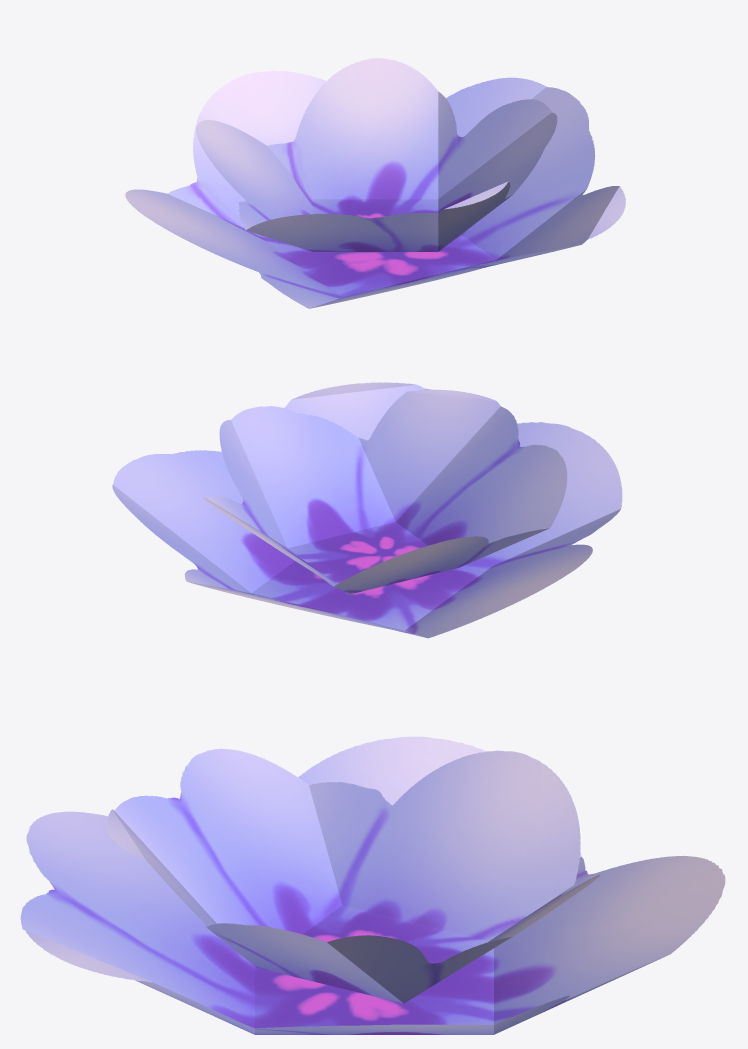
The model's file is purpleGroundFlower_1.fbx.
3 views of the same model, one above another, from view 1: azimuth 30°, elevation 25°; view 2: azimuth 150°, elevation 25°; view 3: azimuth 270°, elevation 25° (orthographic). The views are drawn at different scales.
Visible parts, largest first — view 1: purpleGroundFlower_1; view 2: purpleGroundFlower_1; view 3: purpleGroundFlower_1.
Part boxes in pixels (x1,y1,x2,y2): purpleGroundFlower_1: [125, 58, 625, 308]; purpleGroundFlower_1: [112, 382, 622, 638]; purpleGroundFlower_1: [20, 736, 725, 1034].
Bounding box in the file's own units: 0.4089 × 0.0986 × 0.4122.
